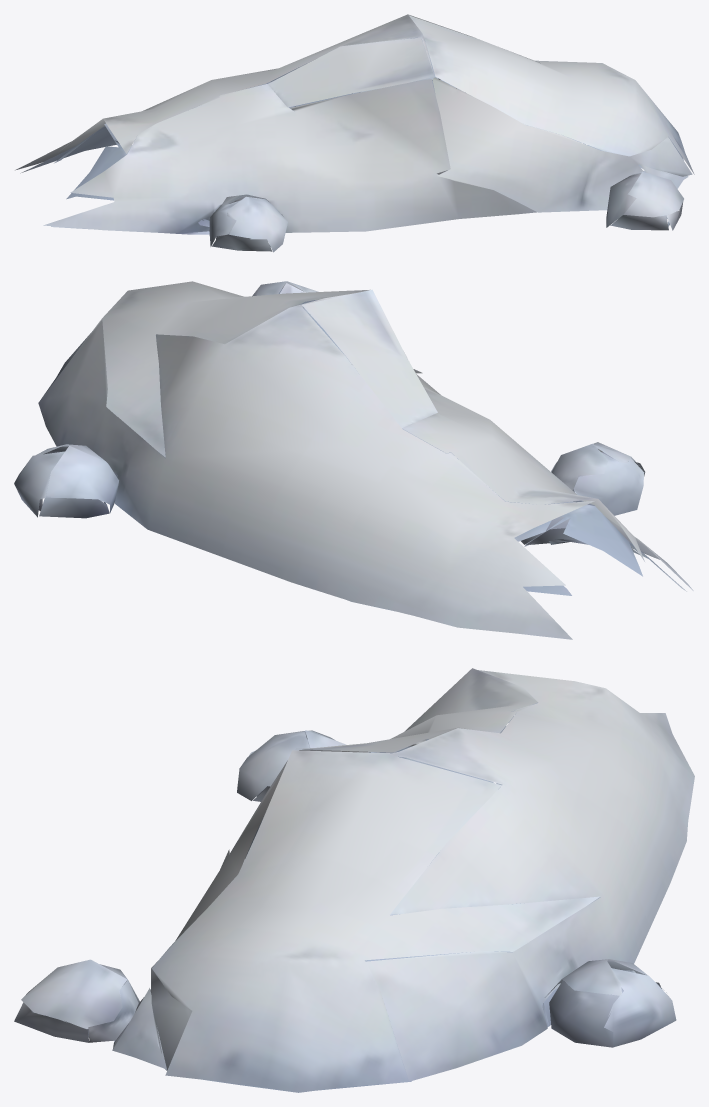
The model's file is snowpile_gen_b.glb.
The picture shows the model from 3 angles, top to bottom: view 1: azimuth 30°, elevation 25°; view 2: azimuth 150°, elevation 25°; view 3: azimuth 270°, elevation 25°; orthographic projection. The views are drawn at different scales.
Parts seen in each view (by area): view 1: snowpile_gen.001; view 2: snowpile_gen.001; view 3: snowpile_gen.001.
Boxes of the visible parts, left/top/right/bottom form: snowpile_gen.001: left=15, top=14, right=694, bottom=252; snowpile_gen.001: left=14, top=281, right=693, bottom=639; snowpile_gen.001: left=14, top=668, right=694, bottom=1092.
Size of the model in its own units: 6.65 by 1.5 by 4.73.
Materials: 1 (1 with a texture image).
